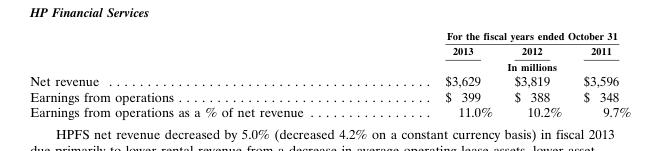table: (29, 29, 630, 119)
table column: (29, 29, 373, 119), (373, 29, 502, 119), (502, 29, 572, 119), (572, 29, 630, 119)
table column header: (29, 29, 630, 72)
table row: (29, 42, 630, 58), (29, 72, 630, 88), (29, 88, 630, 104), (29, 104, 630, 119), (29, 58, 630, 72), (29, 29, 630, 42)
table spanning cell: (373, 58, 630, 72), (373, 29, 630, 42)
